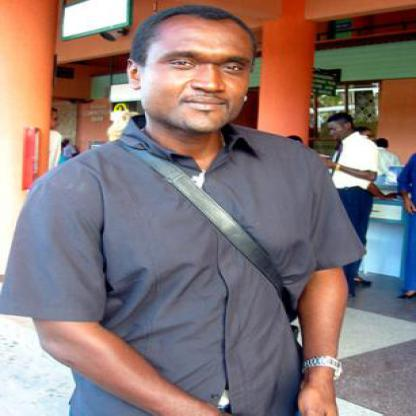face: (142, 11, 261, 135), (327, 116, 348, 142)
